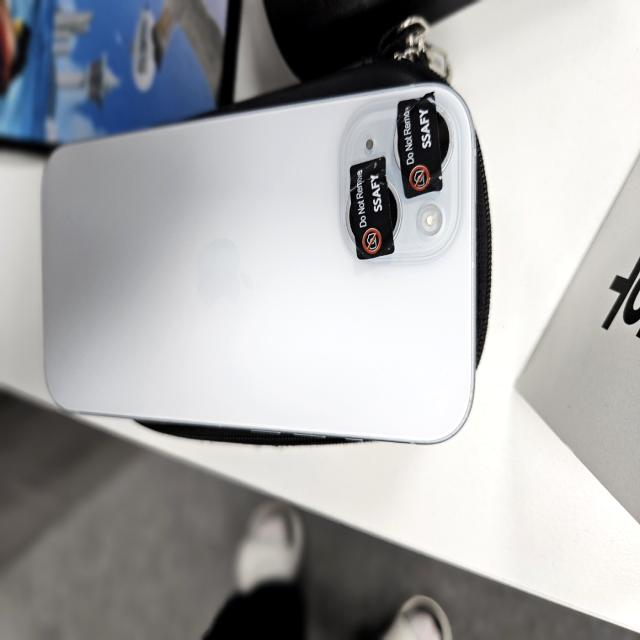phone: (40, 81, 477, 445)
sticker: (396, 91, 444, 196), (350, 155, 394, 262)
